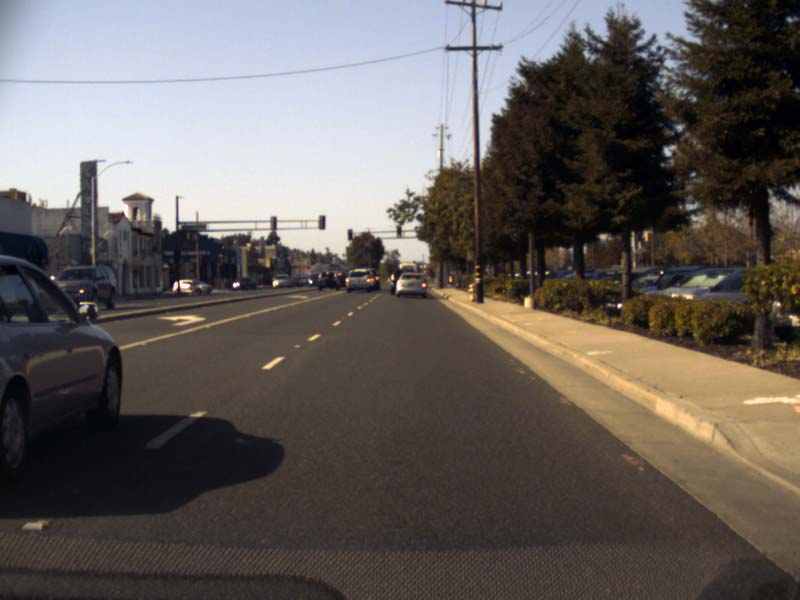Green: (396, 226, 401, 236)
